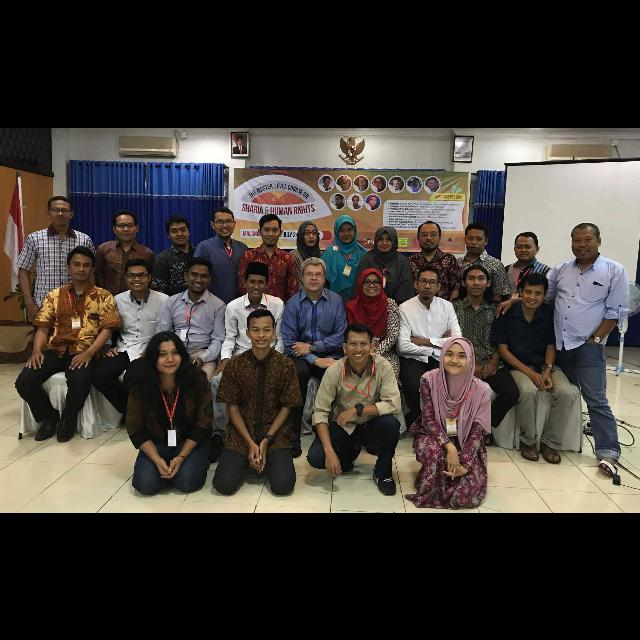head: (150, 330, 184, 374), (342, 322, 376, 362), (245, 310, 277, 348), (441, 336, 473, 374), (571, 222, 603, 258), (519, 272, 549, 308), (66, 243, 95, 280), (461, 264, 492, 296), (183, 261, 213, 293), (112, 208, 140, 242), (124, 260, 152, 292), (414, 266, 442, 298), (46, 196, 74, 227), (211, 206, 237, 238), (258, 214, 284, 246), (416, 220, 442, 252), (464, 221, 490, 253), (514, 230, 540, 262), (302, 256, 326, 290), (243, 267, 270, 297), (167, 215, 191, 245), (334, 214, 356, 244), (362, 267, 384, 297), (374, 224, 396, 253), (298, 220, 320, 248)
person: (488, 220, 632, 478), (12, 244, 122, 441), (488, 269, 580, 469), (305, 320, 405, 498), (211, 308, 303, 497), (15, 192, 99, 398), (88, 256, 178, 432), (403, 333, 493, 509), (123, 328, 214, 498), (446, 260, 522, 454), (276, 255, 352, 421), (90, 207, 156, 397), (234, 212, 302, 396), (156, 252, 226, 426), (393, 262, 462, 436), (446, 220, 514, 394), (352, 222, 418, 400), (148, 212, 208, 396), (192, 202, 248, 398), (341, 264, 404, 438), (402, 218, 462, 398), (221, 257, 287, 417), (315, 212, 371, 396), (498, 230, 562, 390), (286, 217, 328, 395)
